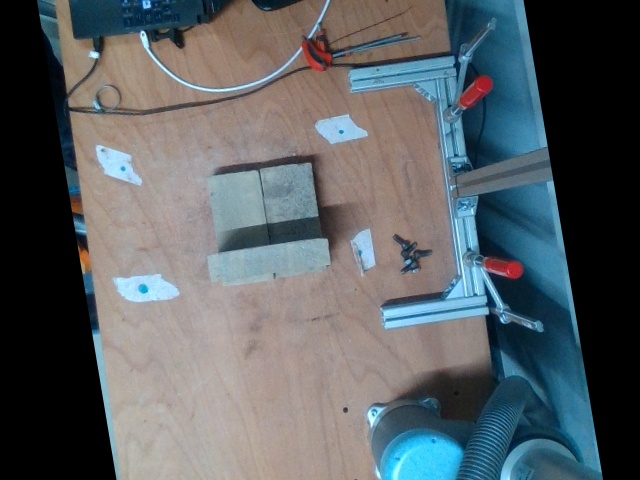brick-side: (209, 236, 329, 280)
